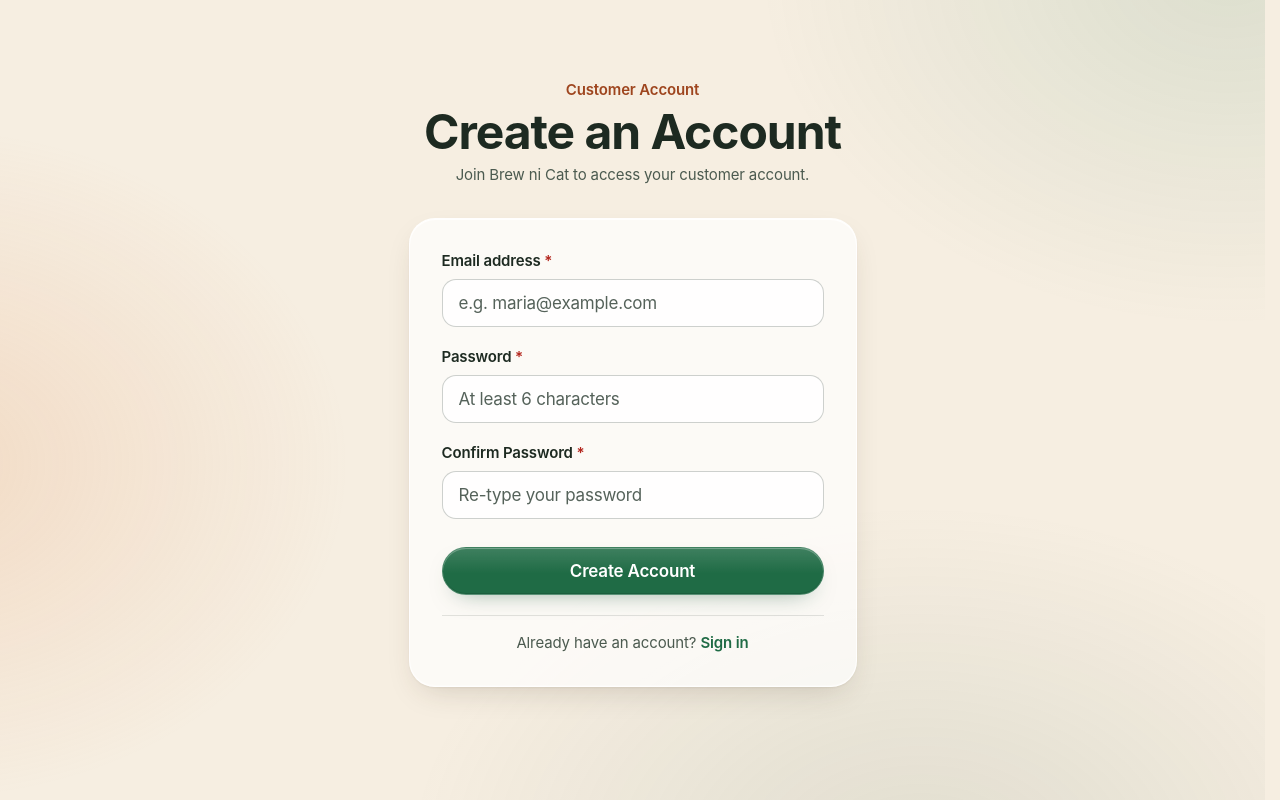
Test case: Account Forms Component Tests › SignUpView (FR-031, FR-035) › TC-P4-163 — shows clear error when passwords do not match
Type "test@example.com" into the field labelled "Email address *" at (632, 303), box left=442, top=279, right=824, bottom=327
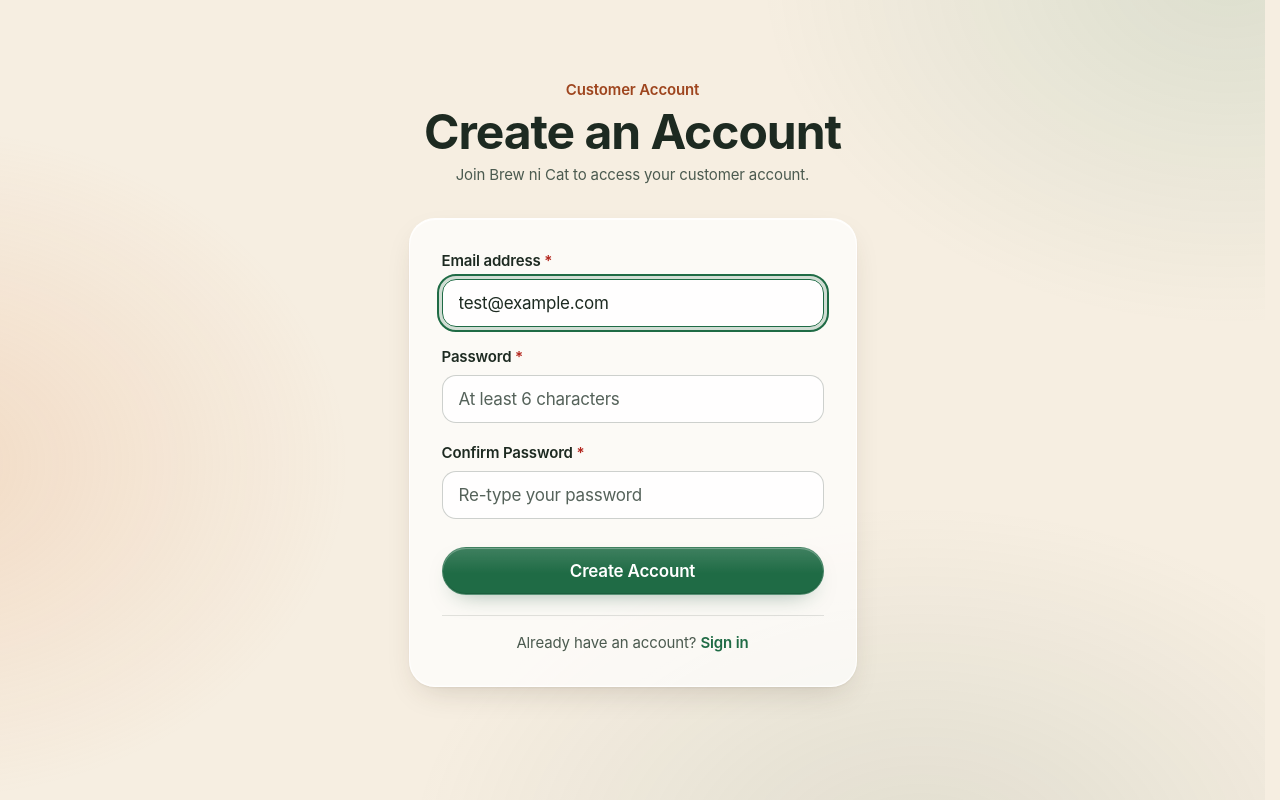
Type "Password123" into the password field labelled "Password *" at (632, 399), box left=442, top=375, right=824, bottom=423
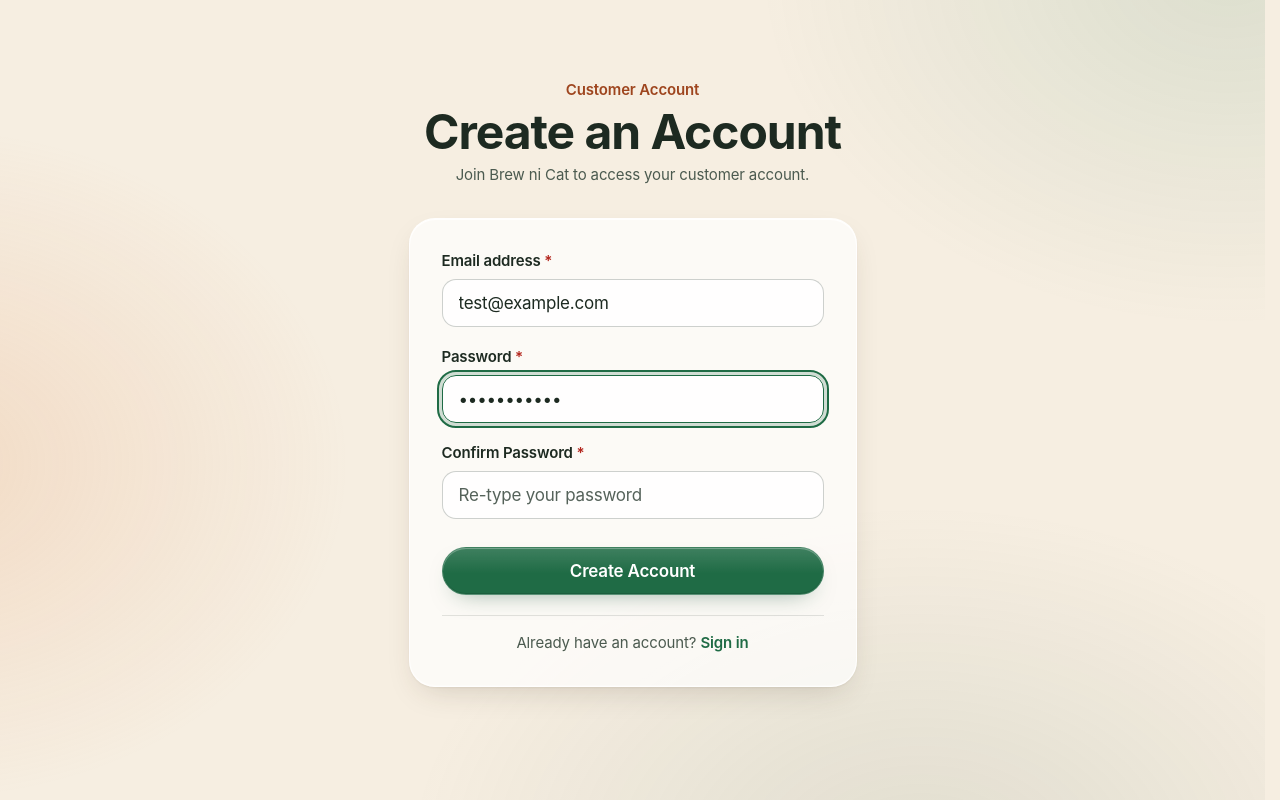
Type "Different123" into the password field labelled "Confirm Password *" at (632, 495), box left=442, top=471, right=824, bottom=519
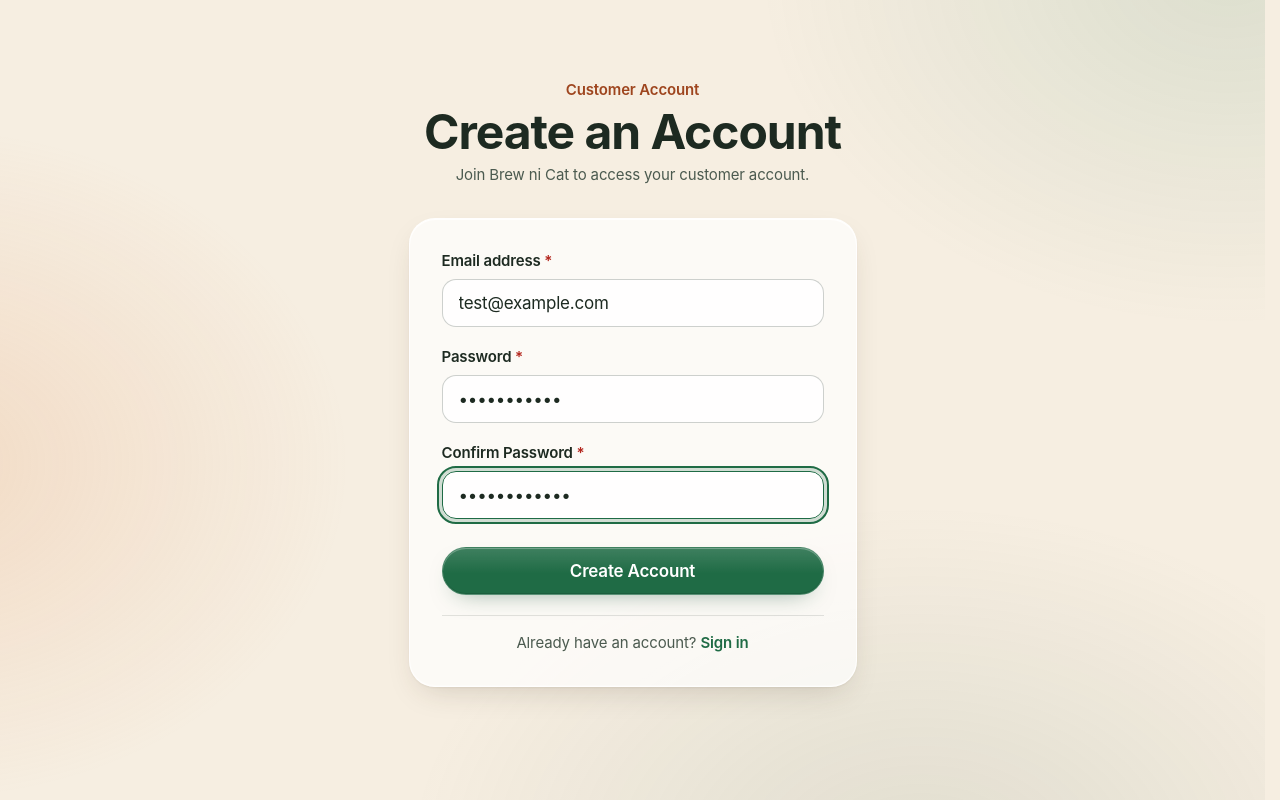
Click the button "Create Account" at (632, 571), box left=442, top=547, right=824, bottom=595
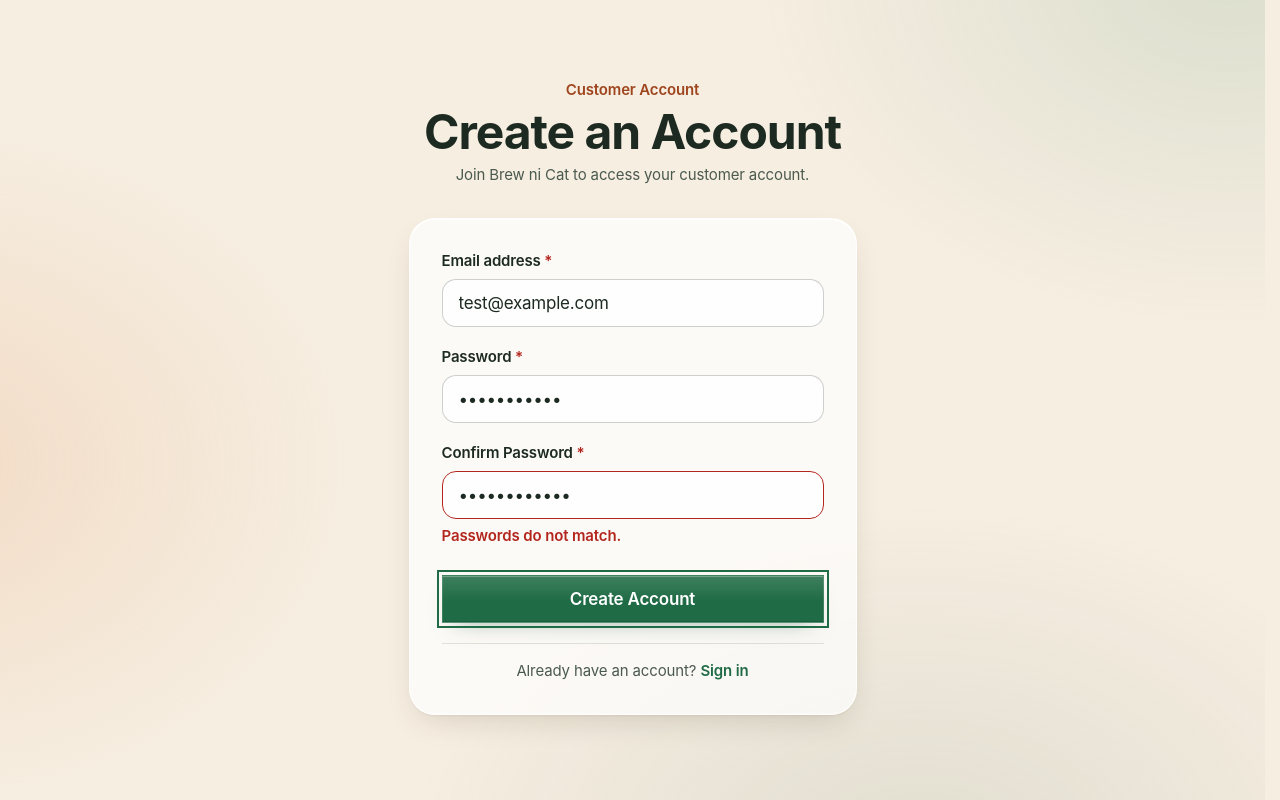
Now the text "Passwords do not match." is shown, box left=442, top=526, right=621, bottom=545
